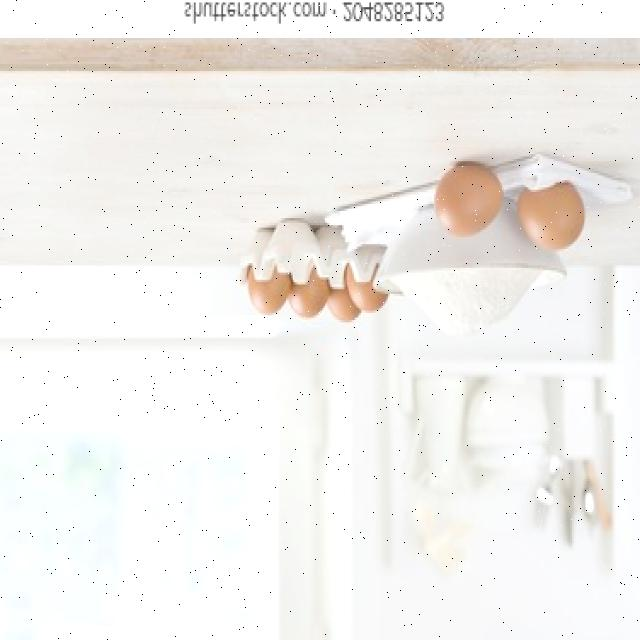Brown Egg: (520, 182, 592, 257), (435, 170, 504, 239), (286, 261, 332, 323), (246, 268, 290, 316), (347, 268, 389, 312), (326, 285, 362, 327)
